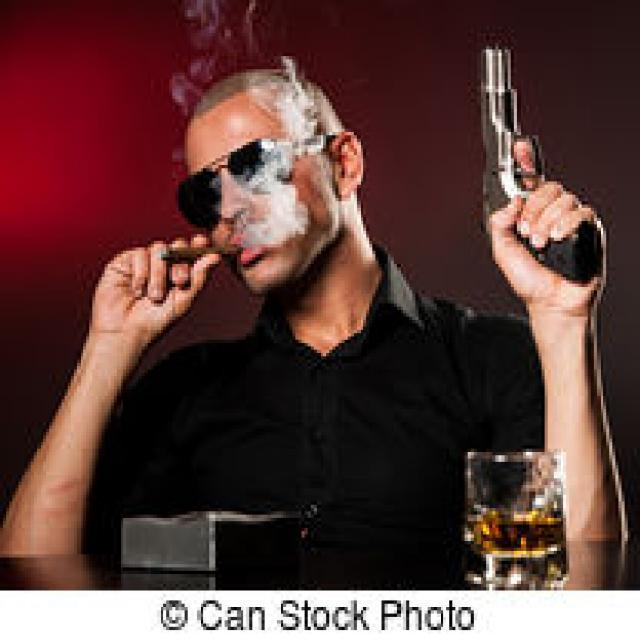gun: (464, 42, 616, 290)
